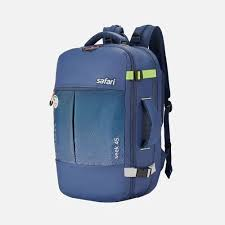backpack: (49, 23, 172, 202)
